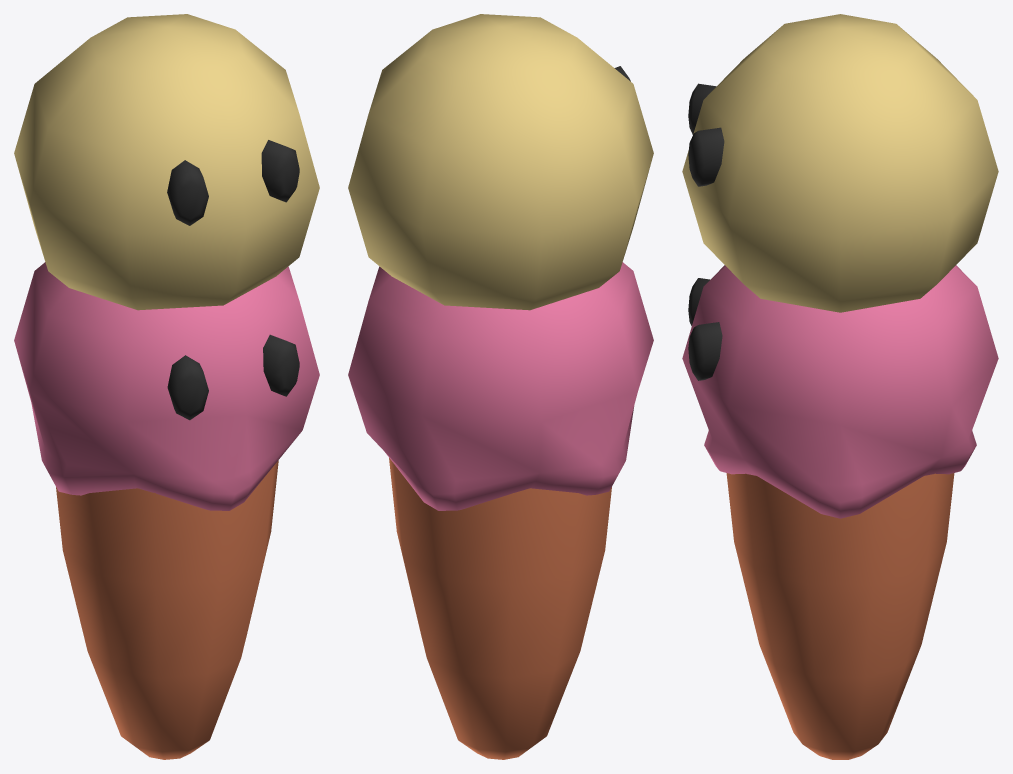
The model's file is IceCream_01.fbx.
3 renders of one model, left to right at view 1: azimuth 30°, elevation 25°; view 2: azimuth 150°, elevation 25°; view 3: azimuth 270°, elevation 25°, orthographic.
Parts seen in each view (by area): view 1: IceCream_01; view 2: IceCream_01; view 3: IceCream_01.
Part boxes in pixels (bbox=[...]): IceCream_01: bbox=[14, 14, 319, 759]; IceCream_01: bbox=[348, 14, 653, 759]; IceCream_01: bbox=[682, 14, 998, 759].
Size of the model in its own units: 0.1455 by 0.3659 by 0.1455.
